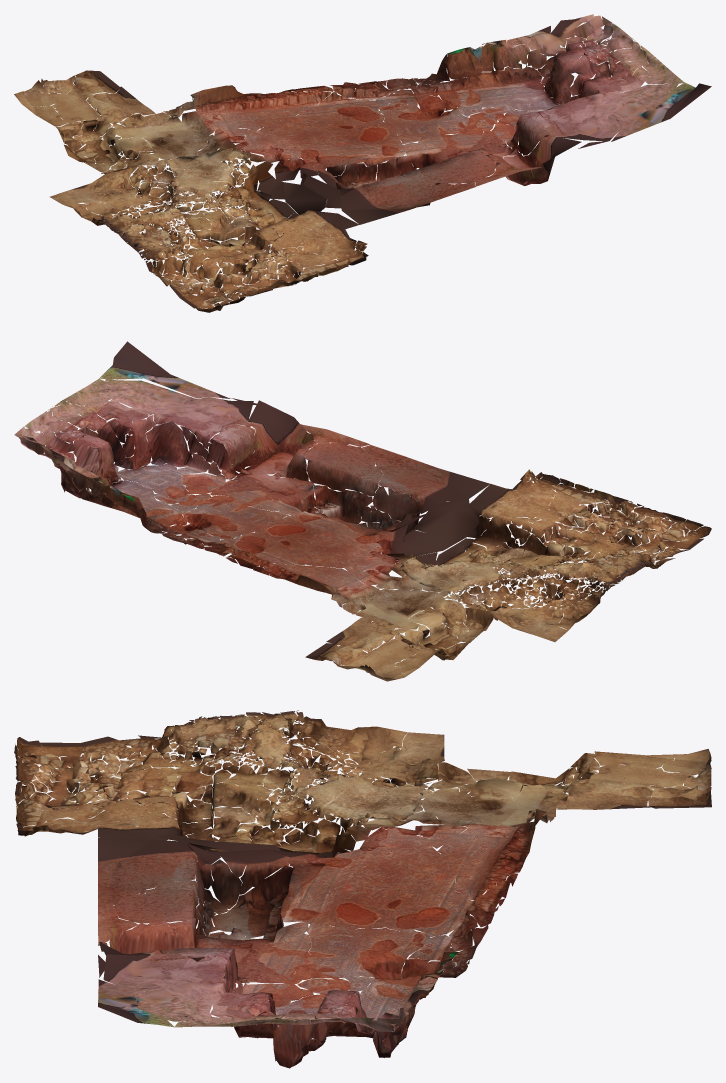
Rendered from mosaico.glb.
3 renders of one model, top to bottom at view 1: azimuth 30°, elevation 25°; view 2: azimuth 150°, elevation 25°; view 3: azimuth 270°, elevation 25°, orthographic. The views are drawn at different scales.
Parts seen in each view (by area): view 1: Mosaico_5M; view 2: Mosaico_5M; view 3: Mosaico_5M.
Part boxes in pixels (left/top/right/bottom): Mosaico_5M: left=14, top=14, right=711, bottom=312; Mosaico_5M: left=14, top=341, right=711, bottom=681; Mosaico_5M: left=14, top=710, right=711, bottom=1068.
Size of the model in its own units: 16.01 by 2.49 by 12.85.
Materials: 1 (1 with a texture image).
